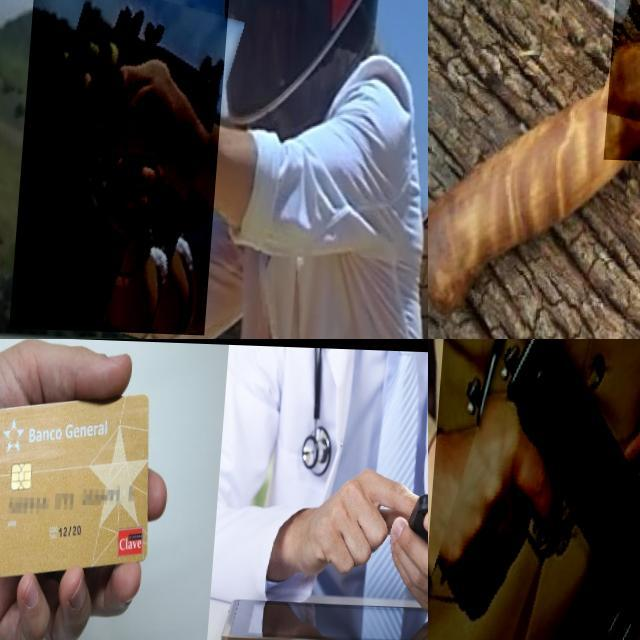gun-knife-thesis - v11 Yolov5 augmented: (17, 0, 232, 333), (428, 339, 640, 640)
